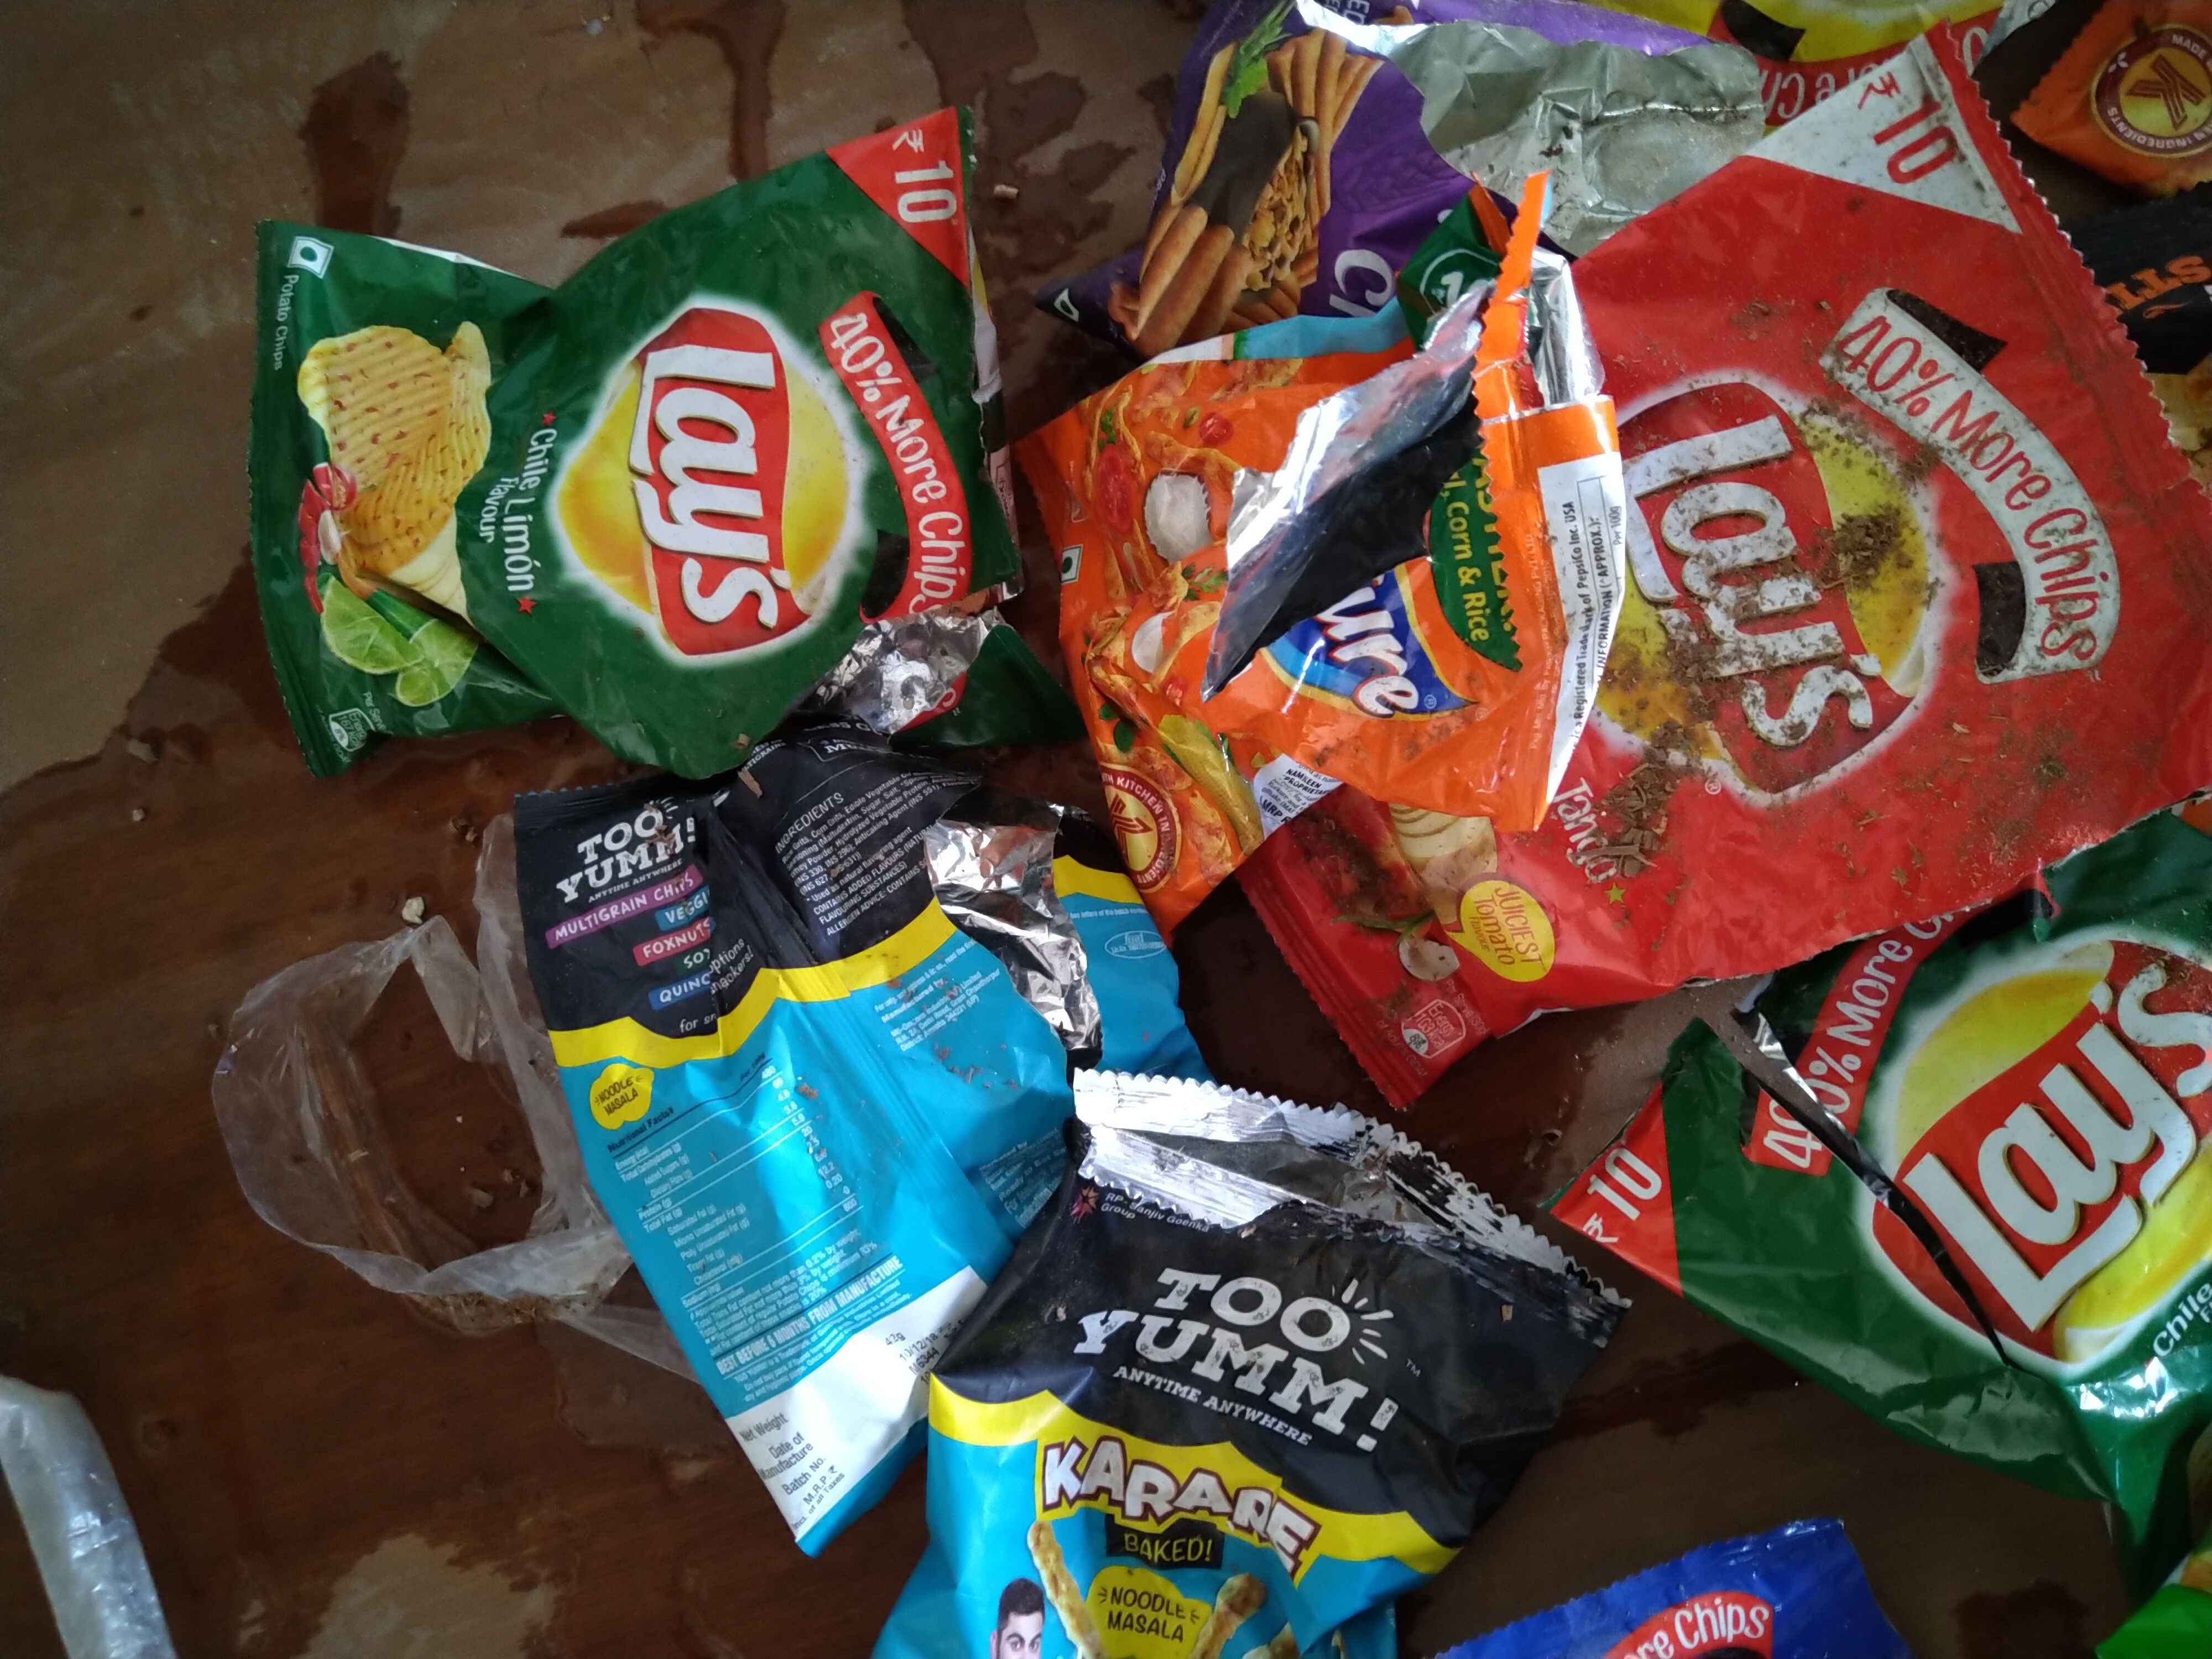Lays: (1568, 361, 2024, 753), (1844, 920, 2212, 1361), (556, 284, 881, 647)
kurkure: (1259, 528, 1498, 742)
tooyumm: (1080, 1185, 1418, 1452), (535, 788, 714, 941)
